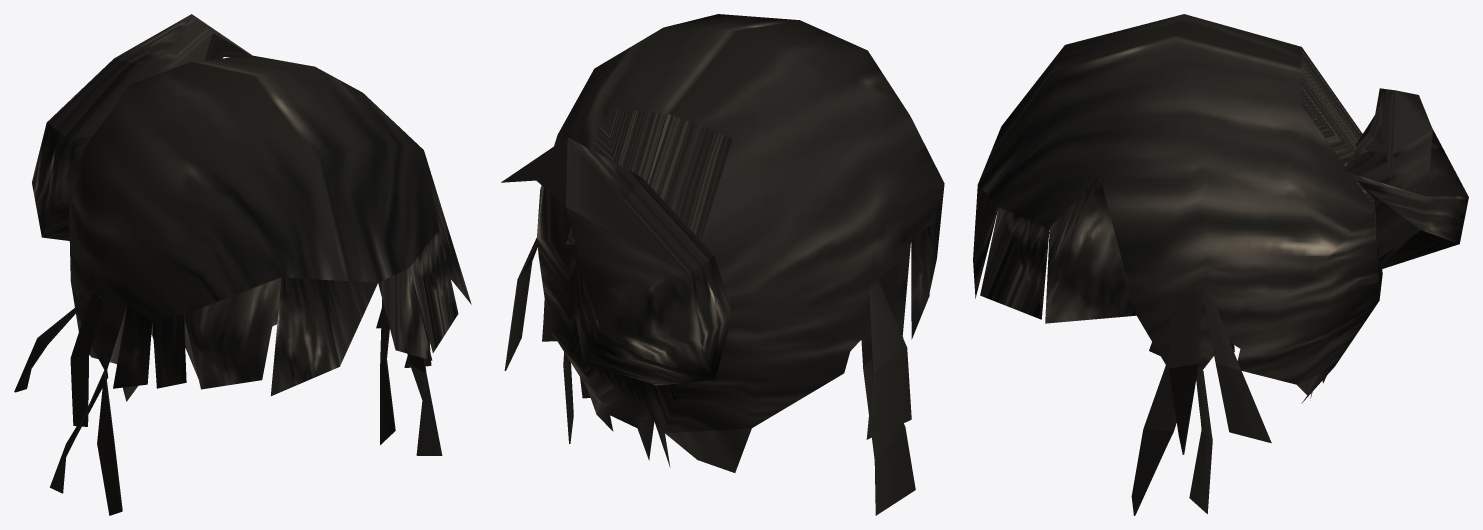
The model's file is hair woman 4.FBX.
3 renders of one model, left to right at view 1: azimuth 30°, elevation 25°; view 2: azimuth 150°, elevation 25°; view 3: azimuth 270°, elevation 25°, orthographic. The views are drawn at different scales.
Visible parts, largest first — view 1: Hair woman 004; view 2: Hair woman 004; view 3: Hair woman 004.
Boxes of the visible parts, x1,y1,x2,y2 form: Hair woman 004: (14,14,471,515); Hair woman 004: (501,14,944,515); Hair woman 004: (973,14,1468,515).
Size of the model in its own units: 49.26 by 50.92 by 55.79.
